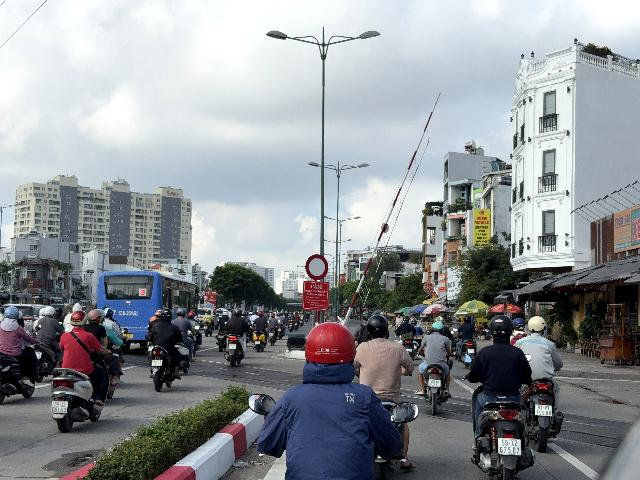duong-cam: (305, 253, 328, 280)
